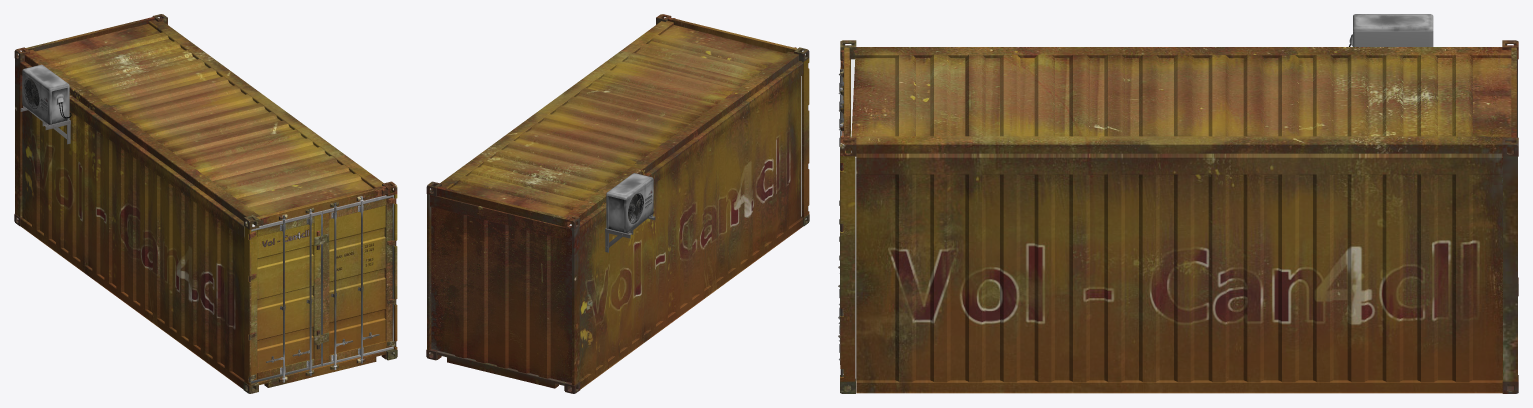
The model's file is container.obj.
3 views of the same model, side by side, from view 1: azimuth 30°, elevation 25°; view 2: azimuth 150°, elevation 25°; view 3: azimuth 270°, elevation 25° (orthographic). The views are drawn at different scales.
Parts seen in each view (by area): view 1: container, air_conditioning; view 2: container, air_conditioning; view 3: container, air_conditioning.
Boxes of the visible parts, x1,y1,x2,y2 form: container: (14,14,397,393); air_conditioning: (20,64,71,144); container: (426,14,809,393); air_conditioning: (605,173,655,252); container: (838,40,1518,393); air_conditioning: (1349,14,1433,46).
Size of the model in its own units: 252 by 251 by 595.
Materials: 2 (2 with a texture image).
